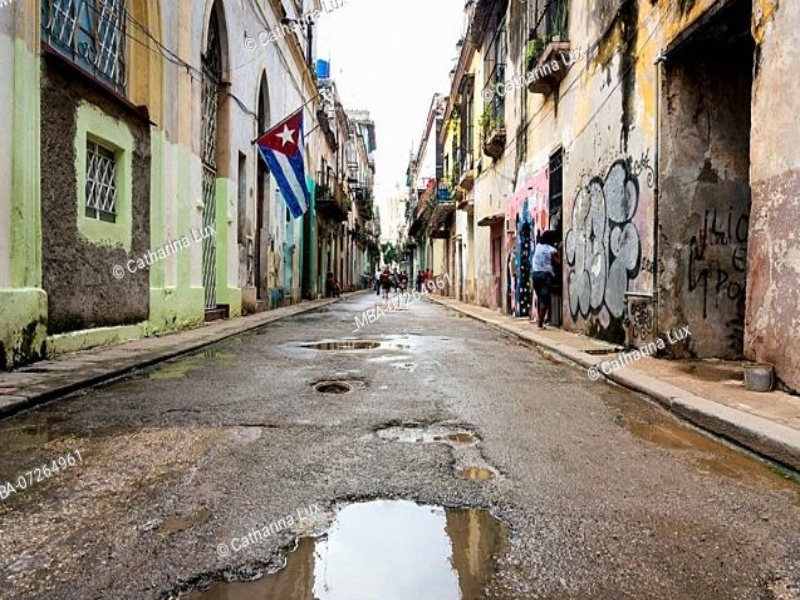pothole: (160, 493, 512, 600), (432, 416, 499, 490), (369, 417, 475, 454), (297, 333, 396, 360), (304, 369, 366, 398)
